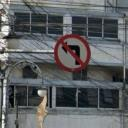NoVirarEsquerda: (51, 32, 94, 74)
